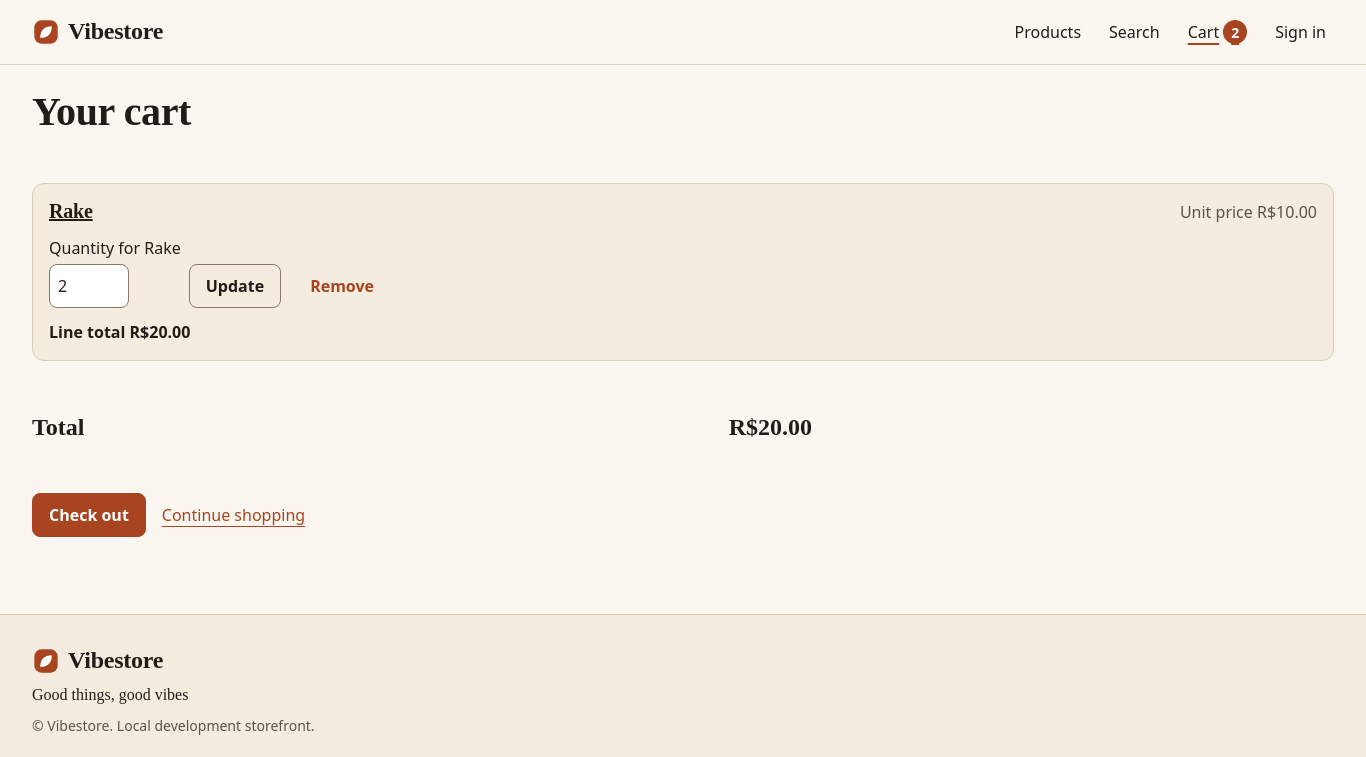
Test: Cart page (FR-004, storefront-routes.md /cart) › rejects an invalid quantity locally and rolls an optimistic quantity back when the platform refuses it
The image size is (1366, 757).
Expected: the heading "Your cart" is shown, left=32, top=89, right=191, bottom=134
Expected: the list named "Cart lines" is shown, left=32, top=183, right=1334, bottom=361
Replace the text in the number field labelled "Quantity for Rake" with "0" at [89, 286], box left=49, top=264, right=129, bottom=308
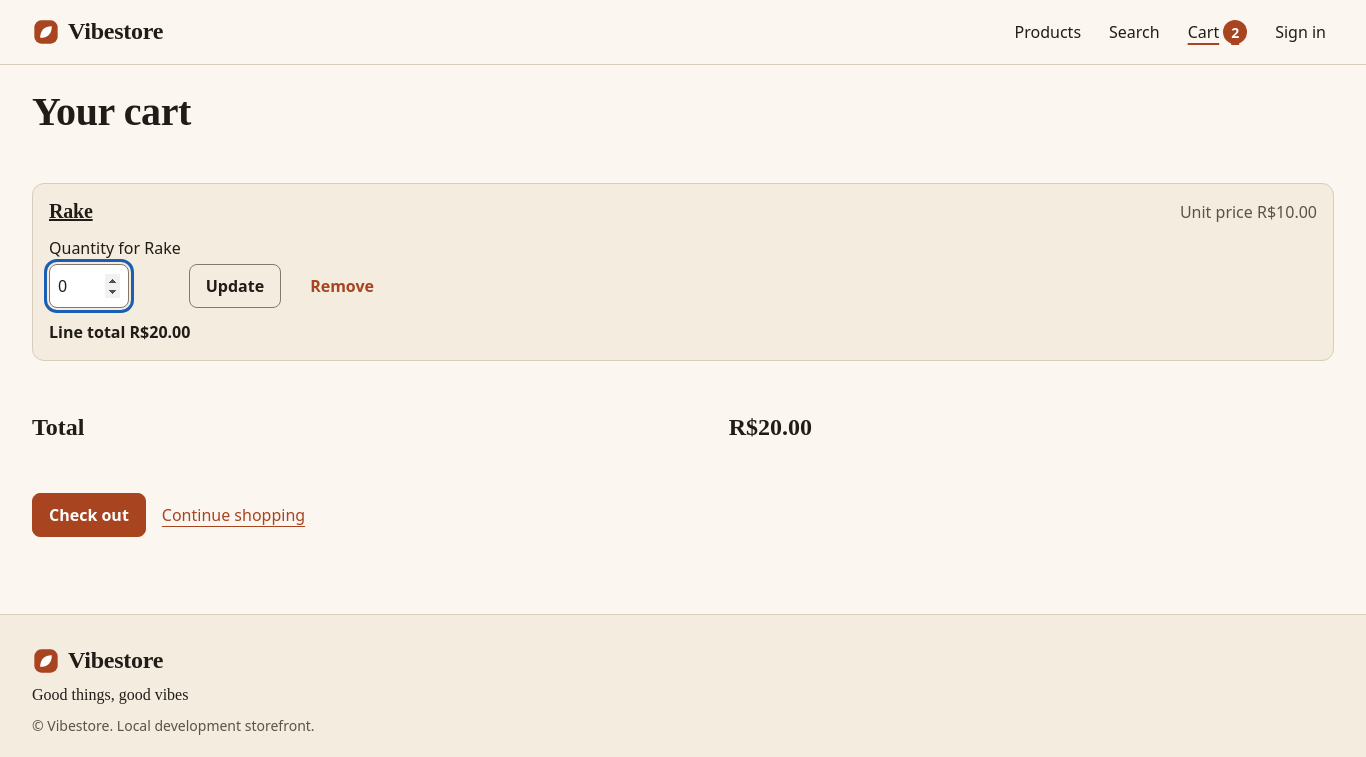
Click the button "Update" at [235, 286], box left=189, top=264, right=281, bottom=308
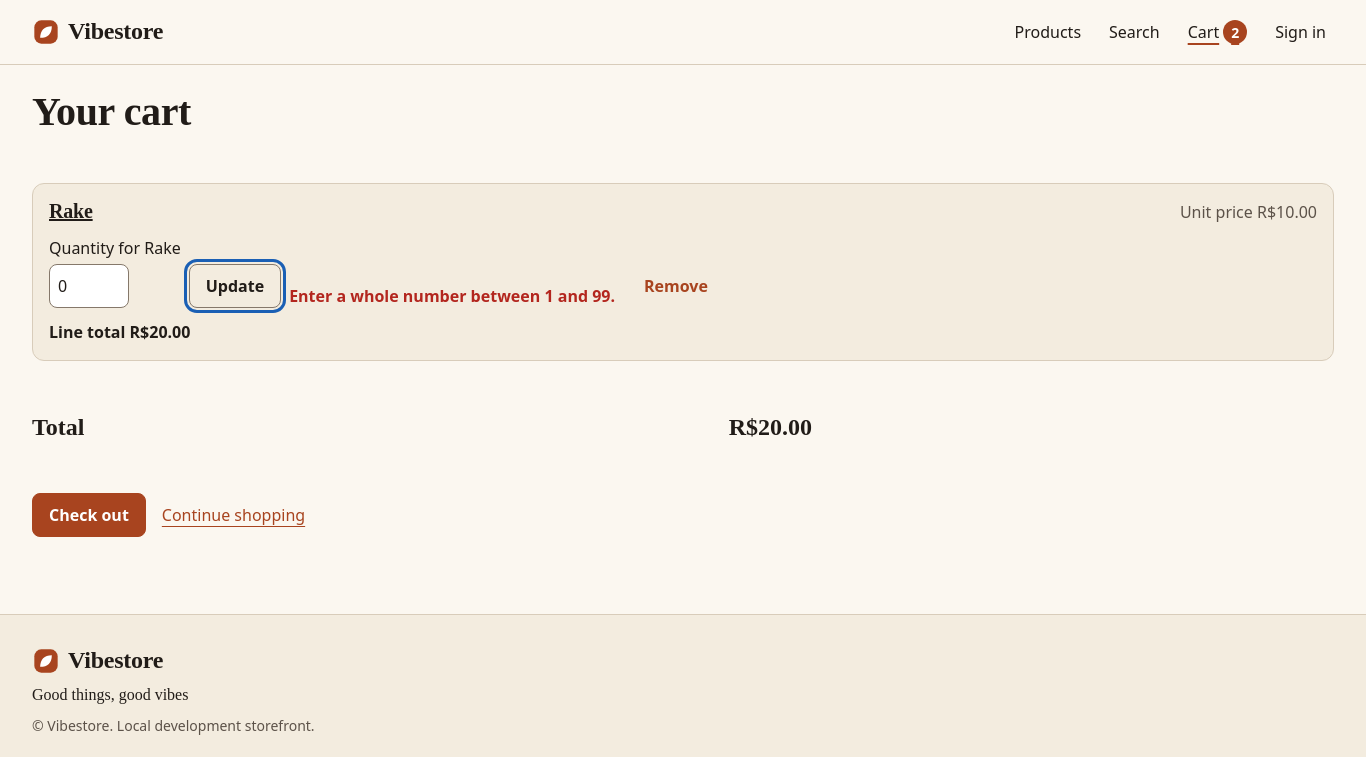
Expected: the message reads "Enter a whole number between 1 and 99.", left=289, top=285, right=615, bottom=307
Replace the text in the number field labelled "Quantity for Rake" with "9" at [89, 286], box left=49, top=264, right=129, bottom=308
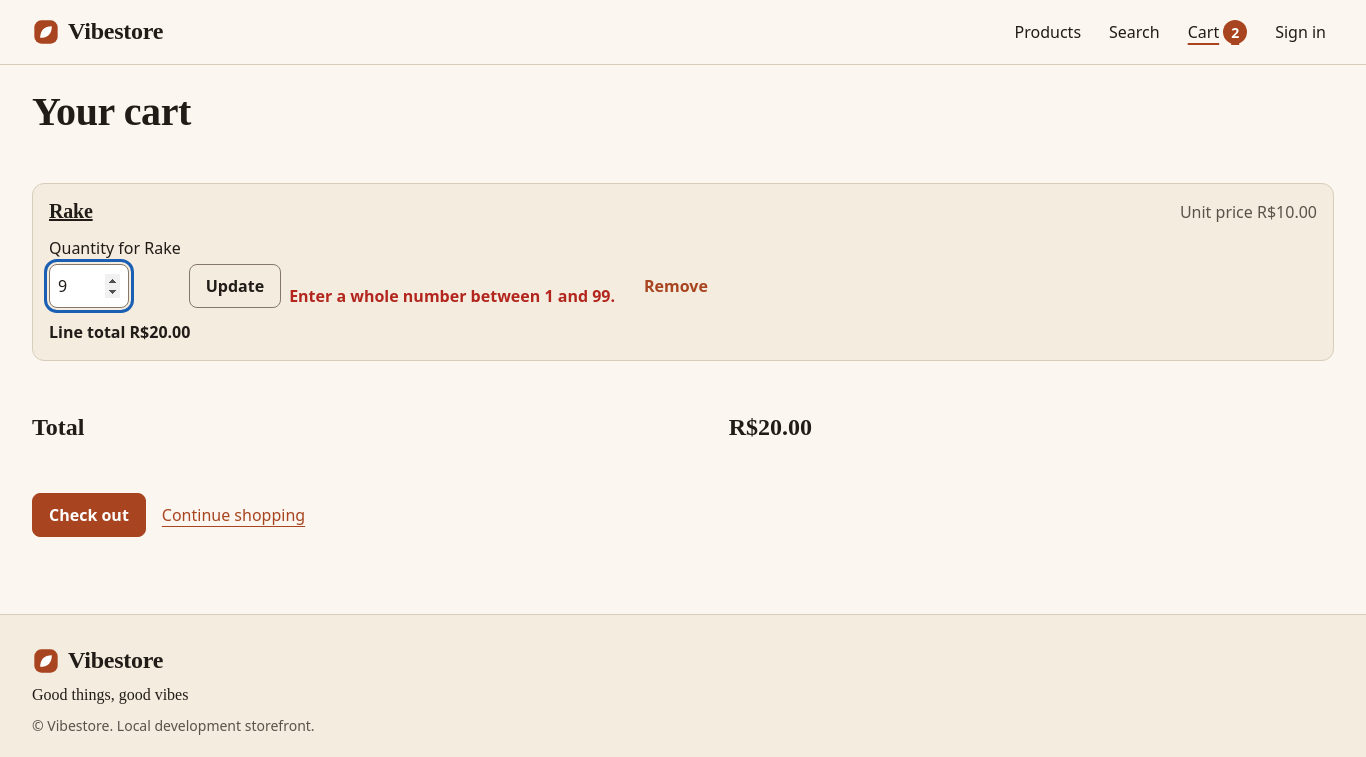
Click the button "Update" at [235, 286], box left=189, top=264, right=281, bottom=308
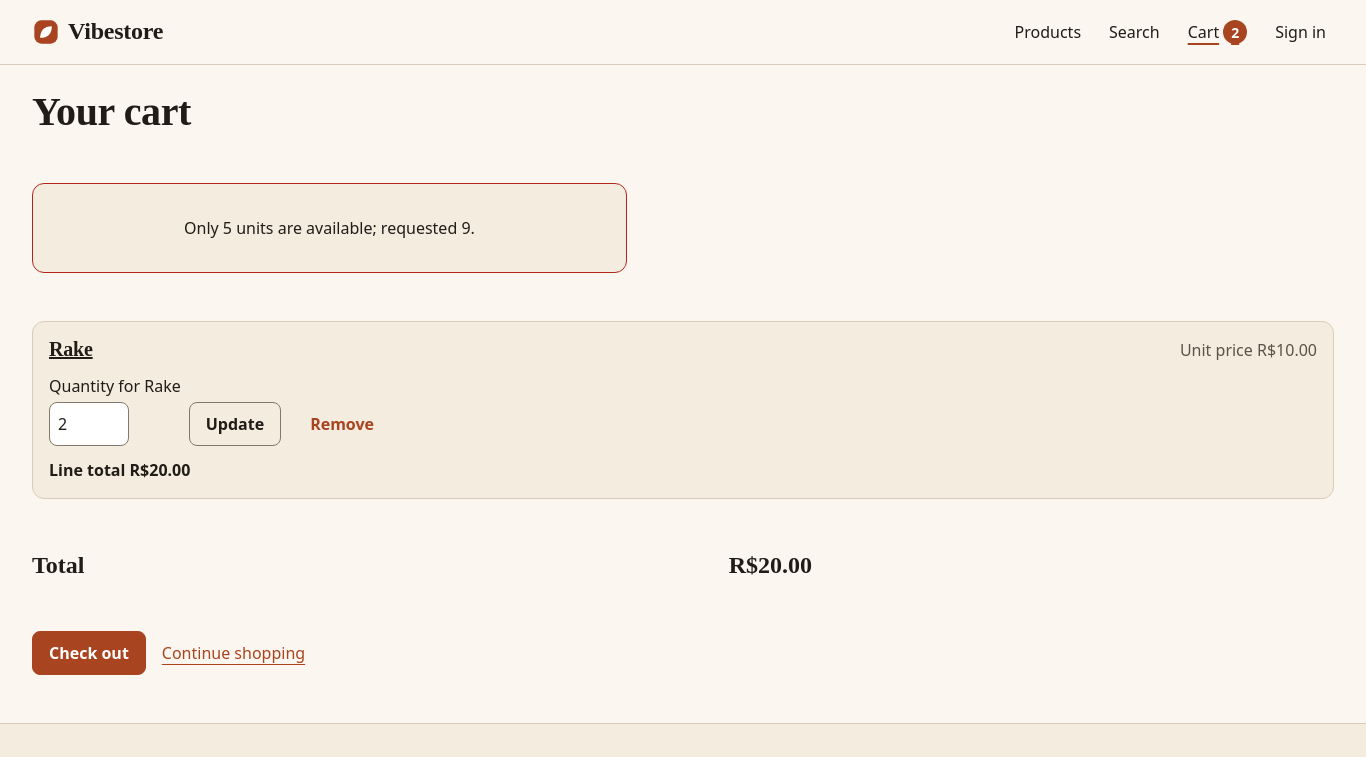
Expected: the message reads "Only 5 units are available; requested 9.", left=184, top=217, right=475, bottom=239
Expected: the number field labelled "Quantity for Rake" holds "2", left=49, top=402, right=129, bottom=446
